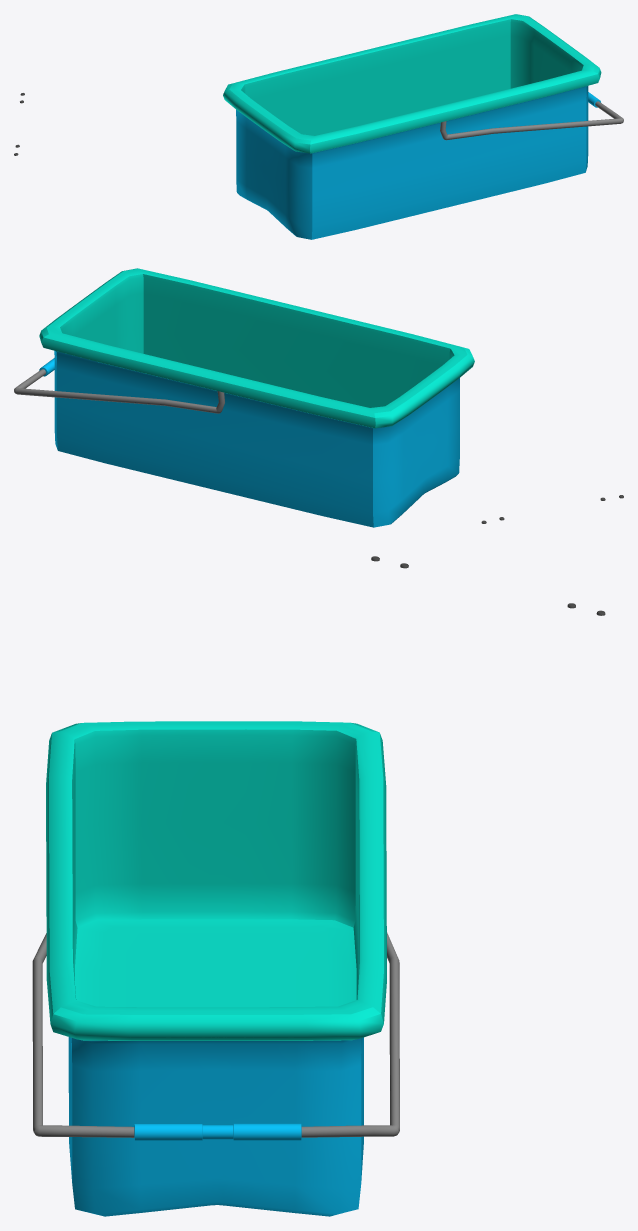
The model's file is dweilbak.fbx.
The picture shows the model from 3 angles, top to bottom: view 1: azimuth 30°, elevation 25°; view 2: azimuth 150°, elevation 25°; view 3: azimuth 270°, elevation 25°; orthographic projection. The views are drawn at different scales.
Parts seen in each view (by area): view 1: Cube.007, Cube.008, Cylinder.010; view 2: Cube.007, Cube.008, Cylinder.010; view 3: Cube.008, Cube.007, Cylinder.010, Cylinder.011.
Boxes of the visible parts, <box> form: Cube.007: <box>236,86,588,239</box>; Cube.008: <box>223,14,601,153</box>; Cylinder.010: <box>440,101,623,140</box>; Cube.007: <box>54,350,459,527</box>; Cube.008: <box>39,268,474,428</box>; Cylinder.010: <box>14,369,224,413</box>; Cube.008: <box>46,721,386,1040</box>; Cube.007: <box>68,1037,363,1216</box>; Cylinder.010: <box>32,932,399,1137</box>; Cylinder.011: <box>134,1123,301,1140</box>.
Bounding box in the file's own units: 616 × 117 × 290.
